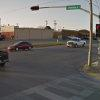Traffic light: (28, 0, 60, 21)
